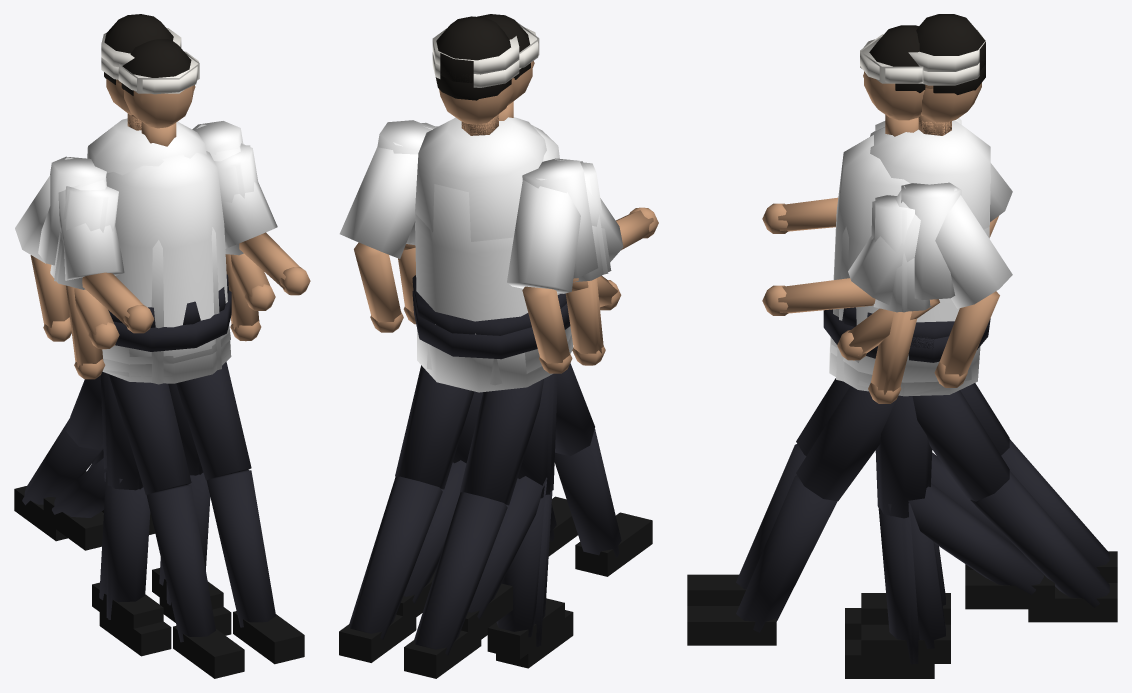
File: people.glb
The picture shows the model from 3 angles, left to right: view 1: azimuth 30°, elevation 25°; view 2: azimuth 150°, elevation 25°; view 3: azimuth 270°, elevation 25°; orthographic projection. The views are drawn at different scales.
Visible parts, largest first — view 1: stand, run1, run3, run0, stand_lo, run2; view 2: run1, run3, run0, stand, run2, stand_lo; view 3: run1, run0, stand, run3, run2, stand_lo.
Boxes of the visible parts, x1,y1,x2,y2 form: stand: [50, 39, 261, 656]; run1: [14, 57, 304, 664]; run3: [15, 144, 310, 678]; run0: [38, 14, 275, 636]; stand_lo: [54, 52, 250, 619]; run2: [43, 458, 223, 609]; run1: [339, 52, 658, 678]; run3: [339, 126, 652, 662]; run0: [377, 16, 621, 659]; stand: [398, 14, 611, 668]; run2: [461, 476, 547, 642]; stand_lo: [427, 22, 608, 645]; run1: [687, 59, 1117, 645]; run0: [830, 14, 1054, 624]; stand: [823, 25, 977, 678]; run3: [687, 119, 1117, 622]; run2: [861, 452, 1020, 663]; stand_lo: [836, 34, 971, 664].
Bounding box in the file's own units: 0.6982 × 1.89 × 1.15.
